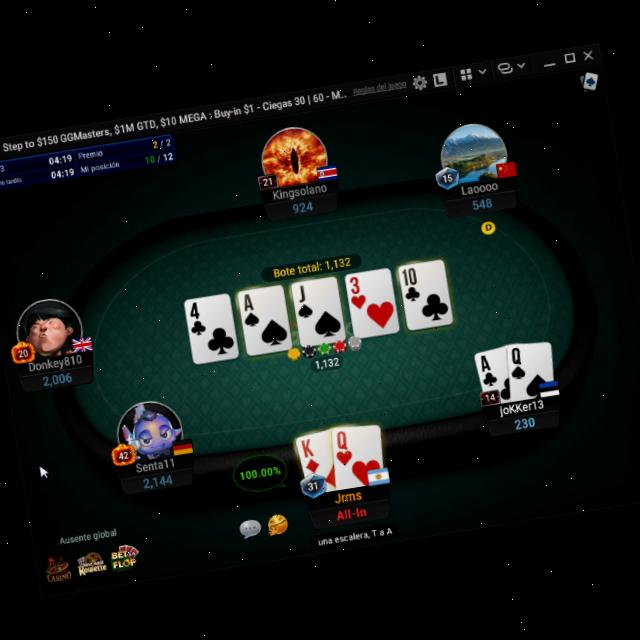3h: (344, 272, 370, 312)
4c: (186, 298, 210, 338)
Ac: (475, 349, 503, 388)
As: (238, 292, 261, 328)
Js: (293, 283, 315, 320)
Kd: (300, 435, 322, 475)
Qh: (331, 428, 356, 468)
Qs: (505, 344, 529, 381)
Tc: (400, 266, 423, 304)
all_in_symbol: (333, 504, 368, 524)
bet_text: (312, 356, 343, 372)
dealer: (479, 215, 502, 237)
pot_text: (271, 253, 354, 280)
stack_text: (138, 472, 178, 492), (40, 369, 76, 388), (468, 194, 496, 212), (290, 198, 316, 215), (513, 414, 538, 430)
